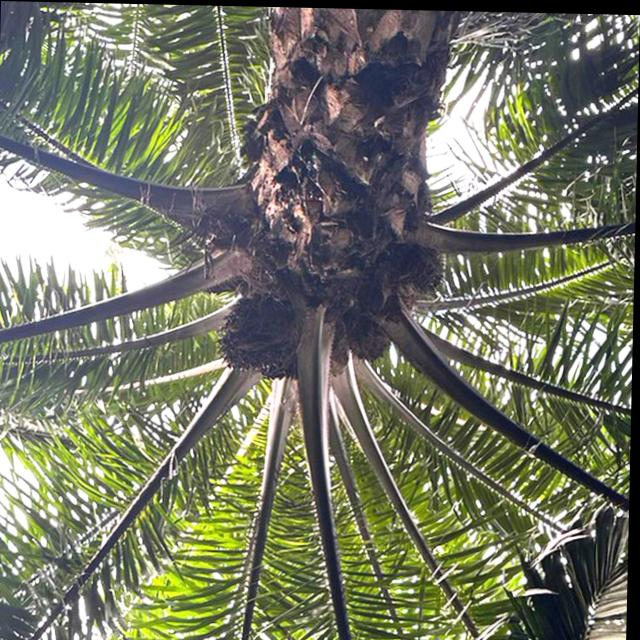almost: (218, 294, 295, 373), (399, 248, 450, 298), (345, 316, 392, 368)
